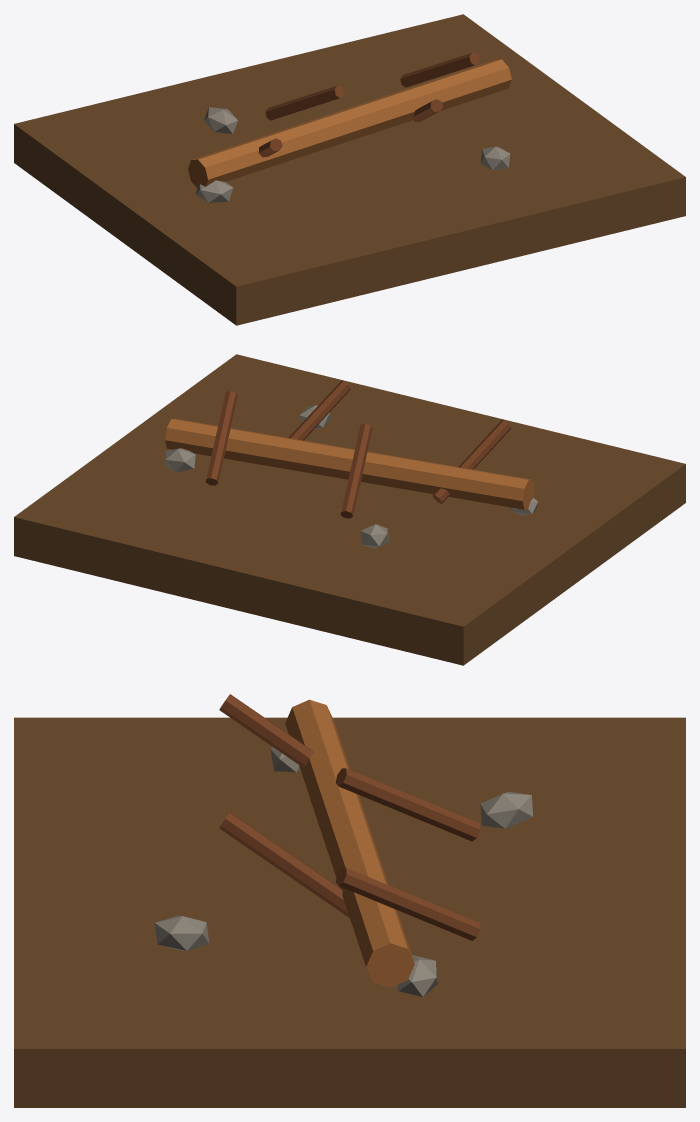
Rendered from fallen_branch.glb.
3 views of the same model, one above another, from view 1: azimuth 30°, elevation 25°; view 2: azimuth 150°, elevation 25°; view 3: azimuth 270°, elevation 25° (orthographic). The views are drawn at different scales.
Parts seen in each view (by area): view 1: TerrainBase, FallenBranch, BranchTwig.001, BranchTwig.003, BranchPebble.002, BranchPebble, BranchPebble.003; view 2: TerrainBase, FallenBranch, BranchTwig.003, BranchTwig.001, BranchTwig.002, BranchTwig, BranchPebble.001, BranchPebble.002; view 3: TerrainBase, FallenBranch, BranchTwig.001, BranchTwig.003, BranchTwig.002, BranchTwig, BranchPebble.002, BranchPebble.003, BranchPebble.001.
Part boxes in pixels (box(x1,y1,x2,y2)): TerrainBase: box(14, 14, 685, 325); FallenBranch: box(188, 59, 511, 187); BranchTwig.001: box(265, 85, 344, 120); BranchTwig.003: box(400, 52, 479, 87); BranchPebble.002: box(204, 107, 237, 133); BranchPebble: box(195, 180, 233, 202); BranchPebble.003: box(480, 146, 510, 170); TerrainBase: box(14, 354, 685, 665); FallenBranch: box(165, 418, 534, 509); BranchTwig.003: box(205, 391, 237, 485); BranchTwig.001: box(340, 423, 372, 518); BranchTwig.002: box(288, 380, 350, 440); BranchTwig: box(432, 420, 511, 503); BranchPebble.001: box(164, 448, 195, 472); BranchPebble.002: box(360, 524, 389, 548); TerrainBase: box(14, 717, 685, 1107); FallenBranch: box(285, 699, 414, 987); BranchTwig.001: box(335, 768, 480, 841); BranchTwig.003: box(336, 867, 480, 940); BranchTwig.002: box(219, 812, 349, 917); BranchTwig: box(219, 694, 314, 767); BranchPebble.002: box(480, 791, 532, 828); BranchPebble.003: box(154, 915, 209, 950); BranchPebble.001: box(398, 955, 437, 996).
Size of the model in its own units: 7 by 1.61 by 6.
